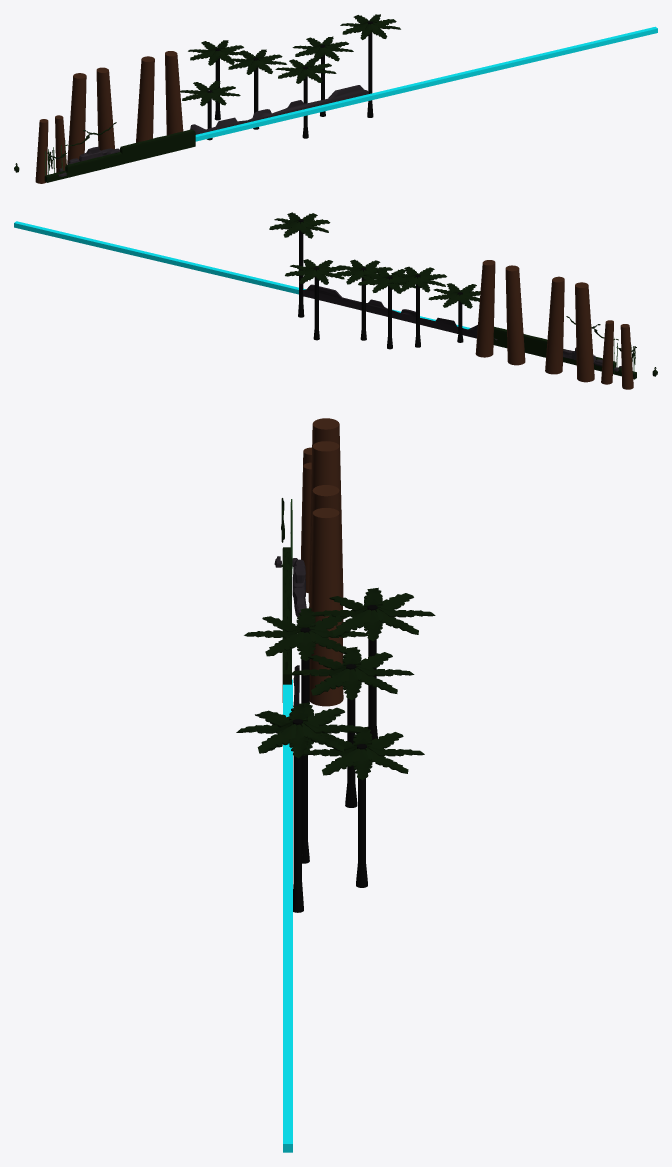
Rendered from Playa_Selva.obj.
3 views of the same model, one above another, from view 1: azimuth 30°, elevation 25°; view 2: azimuth 150°, elevation 25°; view 3: azimuth 270°, elevation 25° (orthographic). The views are drawn at different scales.
Visible parts, largest first — view 1: pCube3, pasted__pasted__pCube2 pasted__group8 group12, pasted__pasted__pasted__pasted__pCube2 pasted__pasted__pasted__g, pasted__pasted__pCylinder2 pasted__group18 group22, pasted__pCylinder2 group18, pasted__group18 group22 pasted__pasted__pasted__pCylinder2 paste, group18 pasted__pasted__pCylinder2 pasted__group10, pCylinder9, pCylinder7, pCylinder5, pCylinder6, pCylinder8 (+4 smaller); view 2: pCube3, pasted__pasted__pasted__pasted__pCube2 pasted__pasted__pasted__g, pasted__pasted__pCylinder2 pasted__group18 group22, pasted__pCylinder2 group18, group18 pasted__pasted__pCylinder2 pasted__group10, pasted__group18 group22 pasted__pasted__pasted__pCylinder2 paste, pCylinder9, pCylinder8, pCylinder5, pCylinder7, pCylinder4, pCylinder6 (+3 smaller); view 3: pCube3, pCylinder9, pasted__group18 group22 pasted__pasted__pasted__pCylinder2 paste, pCylinder8, pCylinder6, pCylinder5, pCylinder4, group18 pasted__pasted__pCylinder2 pasted__group10, pCylinder7, pasted__pCylinder2 group18.
Part boxes in pixels (bbox=[...]): pCube3: bbox=[195, 26, 657, 141]; pasted__pasted__pCube2 pasted__group8 group12: bbox=[120, 129, 195, 164]; pasted__pasted__pasted__pasted__pCube2 pasted__pasted__pasted__g: bbox=[190, 85, 368, 134]; pasted__pasted__pCylinder2 pasted__group18 group22: bbox=[136, 56, 154, 142]; pasted__pCylinder2 group18: bbox=[67, 73, 86, 164]; pasted__group18 group22 pasted__pasted__pasted__pCylinder2 paste: bbox=[165, 51, 183, 135]; group18 pasted__pasted__pCylinder2 pasted__group10: bbox=[96, 67, 114, 150]; pCylinder9: bbox=[340, 14, 400, 117]; pCylinder7: bbox=[275, 58, 336, 138]; pCylinder5: bbox=[188, 40, 248, 120]; pCylinder6: bbox=[228, 49, 286, 129]; pCylinder8: bbox=[292, 36, 353, 116]; pCube3: bbox=[14, 221, 470, 329]; pasted__pasted__pasted__pasted__pCube2 pasted__pasted__pasted__g: bbox=[303, 284, 497, 340]; pasted__pasted__pCylinder2 pasted__group18 group22: bbox=[505, 265, 525, 365]; pasted__pCylinder2 group18: bbox=[575, 282, 594, 382]; group18 pasted__pasted__pCylinder2 pasted__group10: bbox=[545, 276, 564, 374]; pasted__group18 group22 pasted__pasted__pasted__pCylinder2 paste: bbox=[475, 260, 495, 357]; pCylinder9: bbox=[269, 212, 330, 317]; pCylinder8: bbox=[285, 259, 345, 340]; pCylinder5: bbox=[386, 266, 446, 347]; pCylinder7: bbox=[334, 259, 392, 340]; pCylinder4: bbox=[428, 283, 480, 342]; pCylinder6: bbox=[358, 268, 415, 349]; pCube3: bbox=[283, 679, 292, 1152]; pCylinder9: bbox=[236, 704, 360, 912]; pasted__group18 group22 pasted__pasted__pasted__pCylinder2 paste: bbox=[309, 508, 343, 706]; pCylinder8: bbox=[303, 726, 424, 887]; pCylinder6: bbox=[289, 647, 414, 807]; pCylinder5: bbox=[311, 587, 435, 739]; pCylinder4: bbox=[244, 608, 367, 703]; group18 pasted__pasted__pCylinder2 pasted__group10: bbox=[309, 441, 343, 621]; pCylinder7: bbox=[245, 702, 362, 863]; pasted__pCylinder2 group18: bbox=[308, 418, 343, 602].
Size of the model in its own units: 271 by 45.16 by 36.8.
